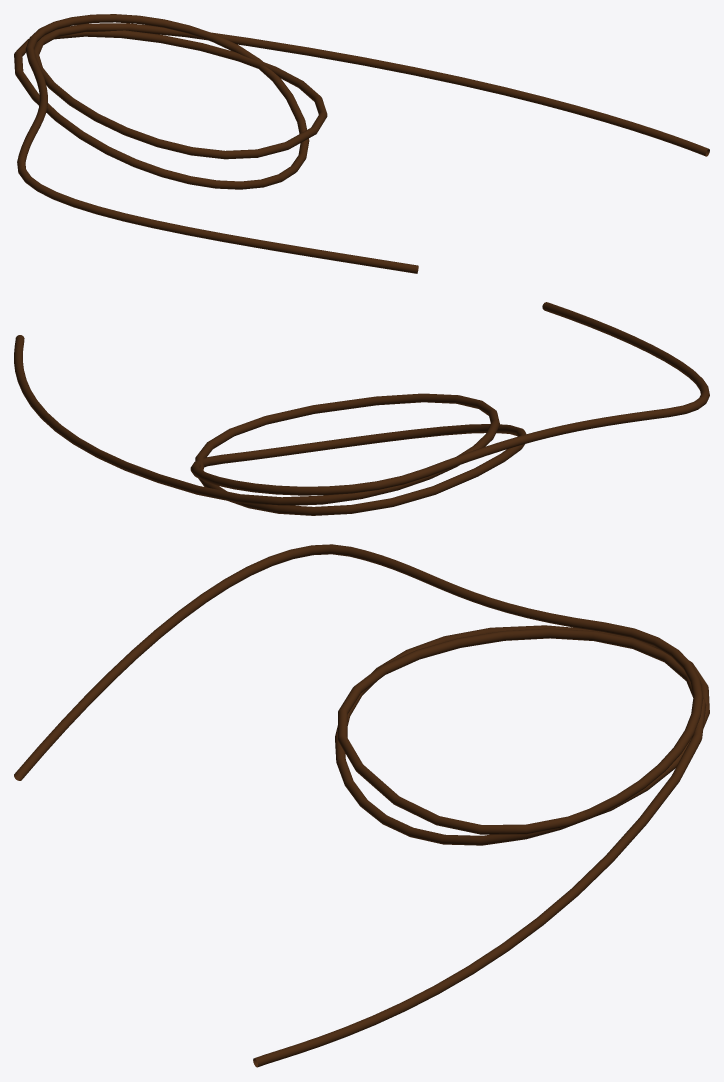
File: Hook.fbx
3 views of the same model, one above another, from view 1: azimuth 30°, elevation 25°; view 2: azimuth 150°, elevation 25°; view 3: azimuth 270°, elevation 25° (orthographic). The views are drawn at different scales.
Visible parts, largest first — view 1: Hook; view 2: Hook; view 3: Hook.
Boxes of the visible parts, bbox=[...] form: Hook: bbox=[14, 14, 709, 273]; Hook: bbox=[14, 302, 709, 515]; Hook: bbox=[14, 544, 709, 1067].
Bounding box in the file's own units: 0.4186 × 0.0769 × 0.3234.
